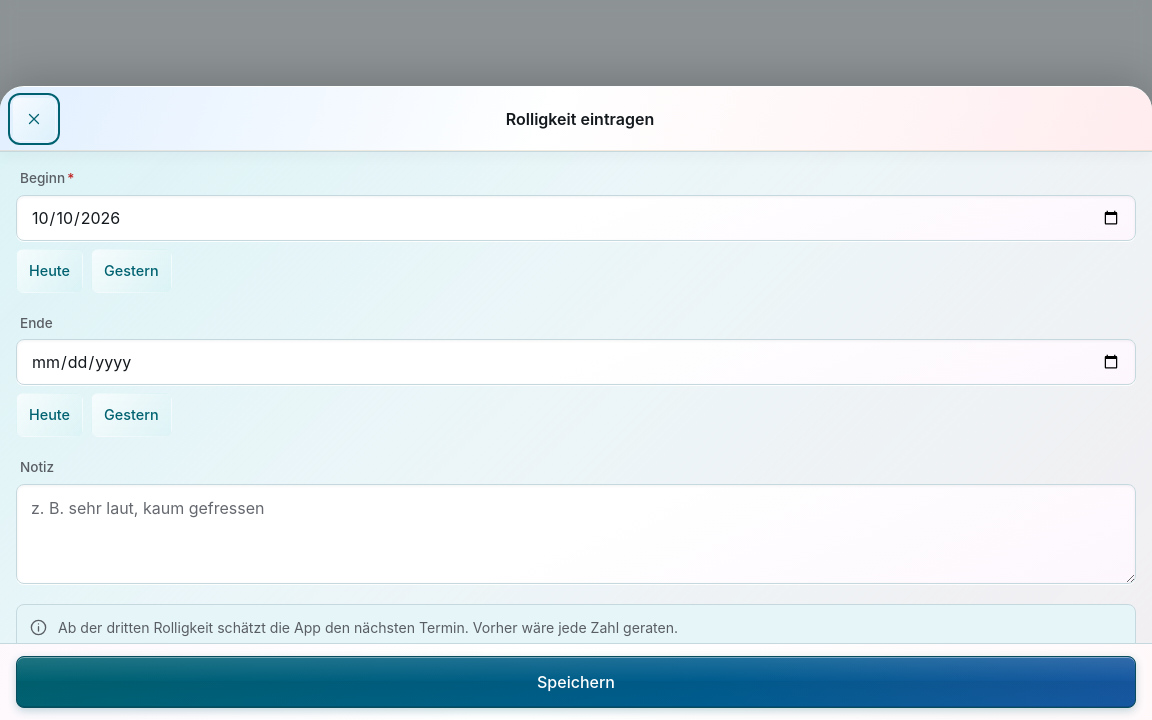
Scenario: HeatSheet › weist ein Ende vor dem Beginn zurück
The image size is (1152, 720).
In the date field labelled "Beginn*": (576, 218) [16,195,1136,241], type "2026-03-10"
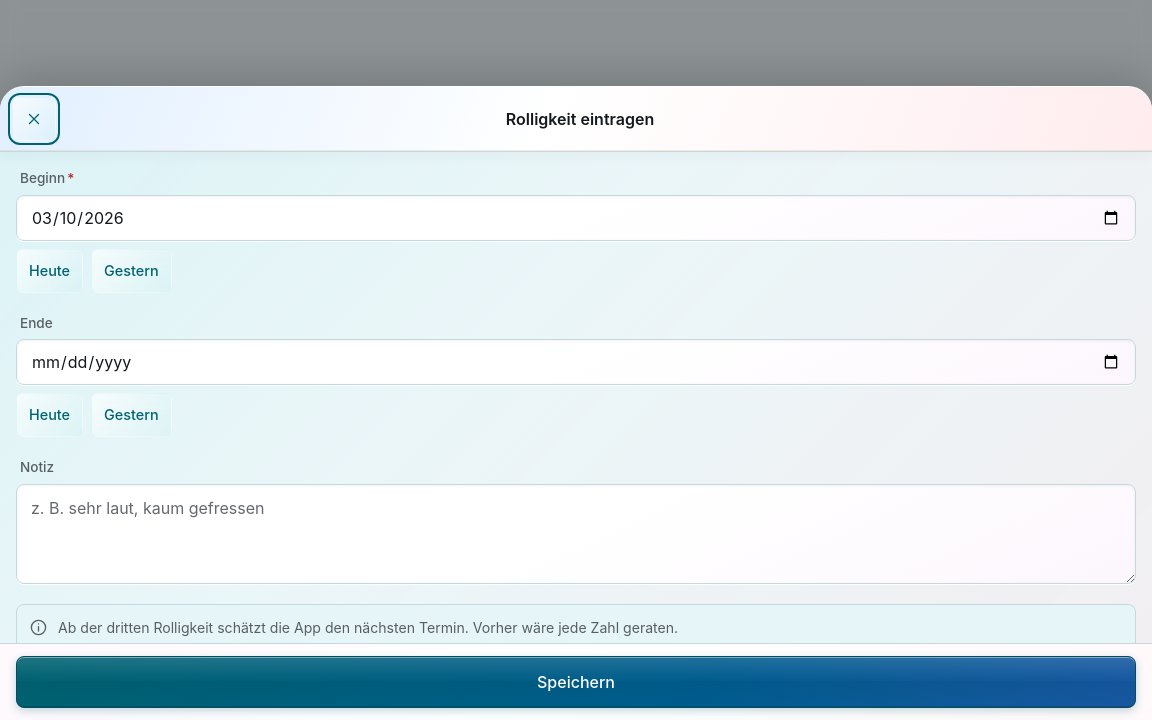
In the date field labelled "Ende": (576, 362) [16,339,1136,385], type "2026-03-01"
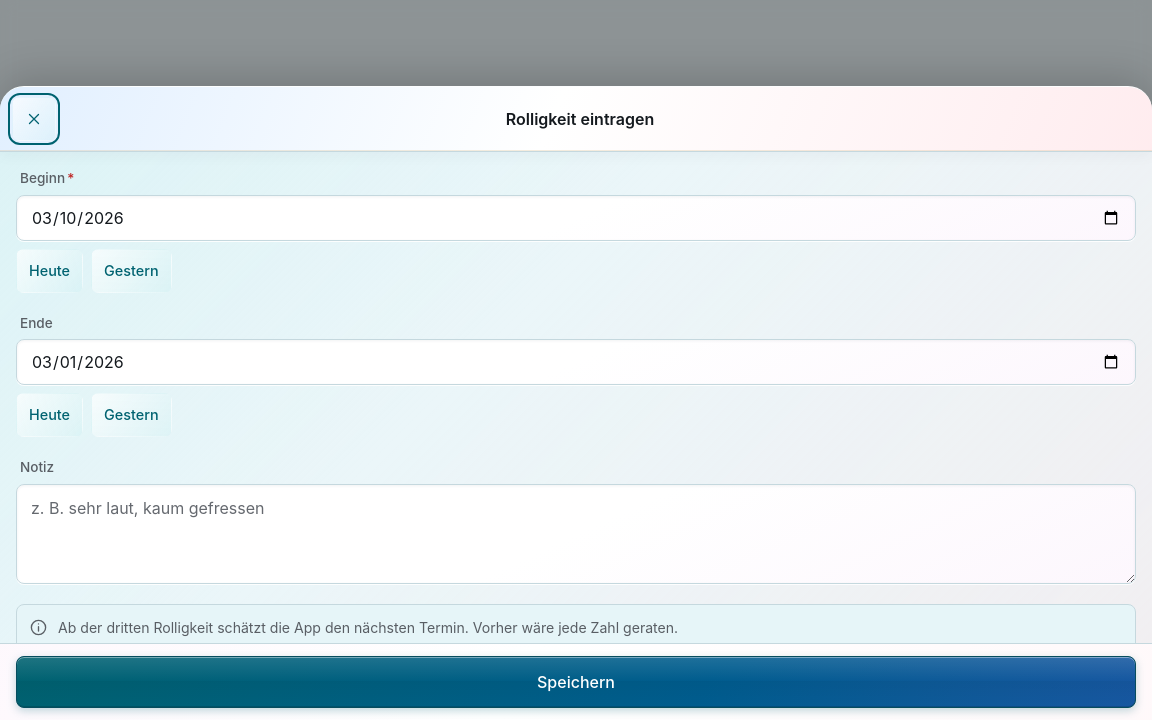
Click the button "Speichern": (576, 682) [16,656,1136,708]
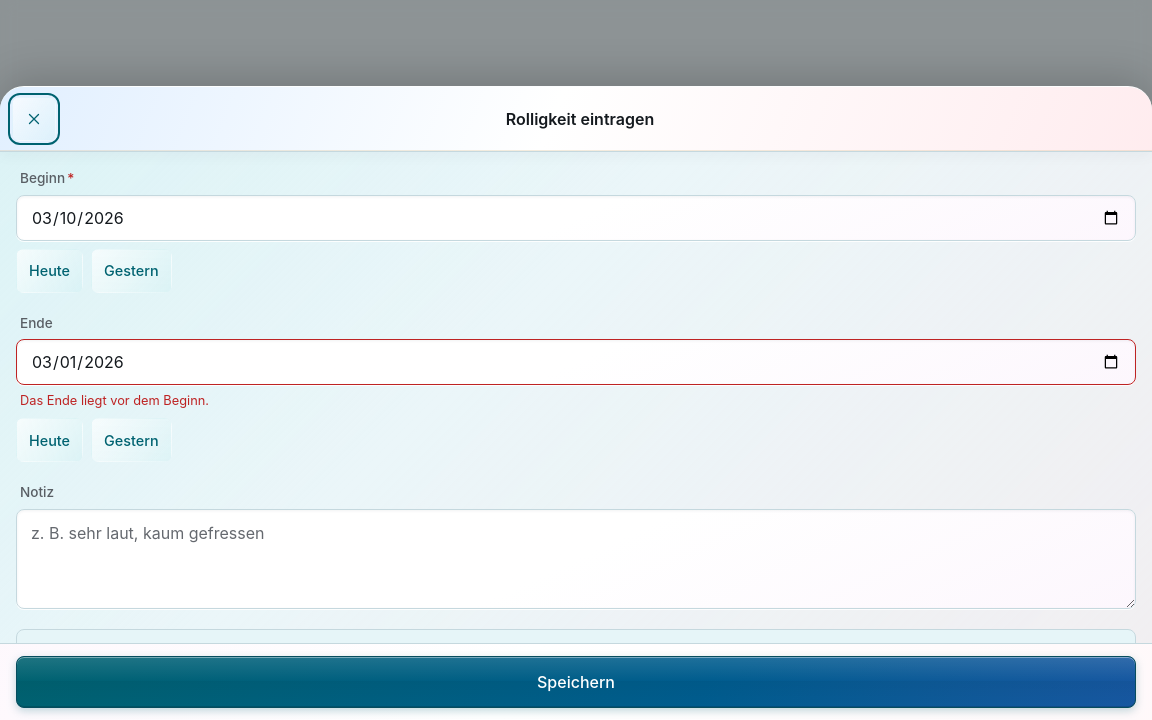
Now the text "Das Ende liegt vor dem Beginn." is shown, box [20,393,209,408]
